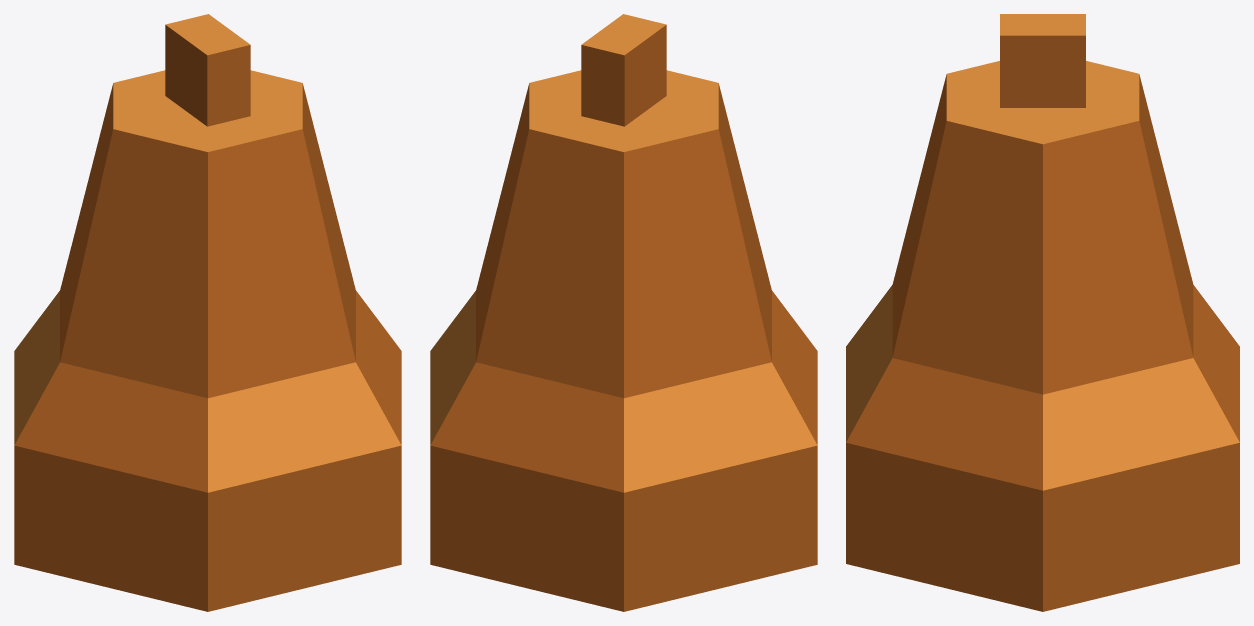
Rendered from TB_Bd_Bell.FBX.
3 renders of one model, left to right at view 1: azimuth 30°, elevation 25°; view 2: azimuth 150°, elevation 25°; view 3: azimuth 270°, elevation 25°, orthographic.
Parts seen in each view (by area): view 1: TB_Bd_Bell; view 2: TB_Bd_Bell; view 3: TB_Bd_Bell.
Boxes of the visible parts, left/top/right/bottom form: TB_Bd_Bell: left=14, top=14, right=401, bottom=611; TB_Bd_Bell: left=430, top=14, right=817, bottom=611; TB_Bd_Bell: left=846, top=14, right=1239, bottom=611.
Size of the model in its own units: 1.11 by 1.33 by 0.9645.
